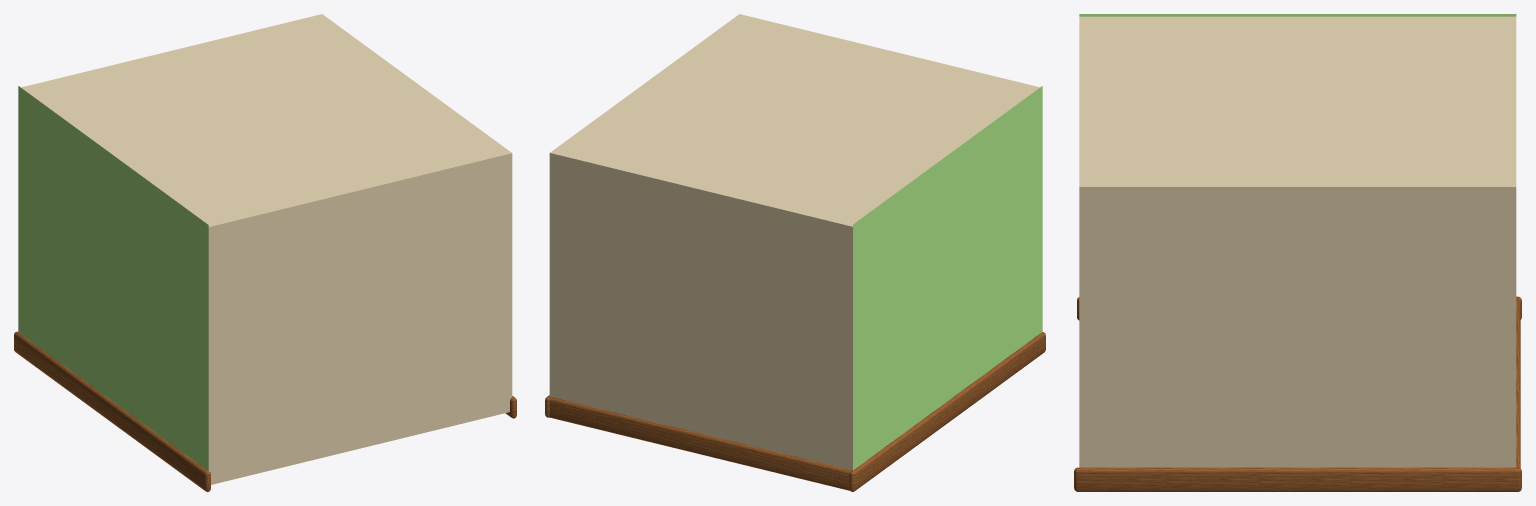
The model's file is env.obj.
The picture shows the model from 3 angles, left to right: view 1: azimuth 30°, elevation 25°; view 2: azimuth 150°, elevation 25°; view 3: azimuth 270°, elevation 25°; orthographic projection. The views are drawn at different scales.
Parts seen in each view (by area): view 1: Box001, Object022, ChamferBox004; view 2: Box001, Object022, ChamferBox005, ChamferBox004; view 3: Box001, ChamferBox006, Object022, ChamferBox005.
Part boxes in pixels (bbox=[...]): Box001: bbox=[21, 14, 512, 484]; Object022: bbox=[18, 86, 208, 471]; ChamferBox004: bbox=[14, 331, 210, 491]; Box001: bbox=[549, 14, 1039, 470]; Object022: bbox=[853, 86, 1042, 470]; ChamferBox005: bbox=[549, 396, 852, 490]; ChamferBox004: bbox=[849, 332, 1045, 491]; Box001: bbox=[1079, 16, 1516, 467]; ChamferBox006: bbox=[1074, 467, 1521, 491]; Object022: bbox=[1079, 14, 1516, 16]; ChamferBox005: bbox=[1516, 297, 1520, 468].
Bounding box in the file's own units: 240 × 198 × 261.
Materials: 3 (1 with a texture image).
